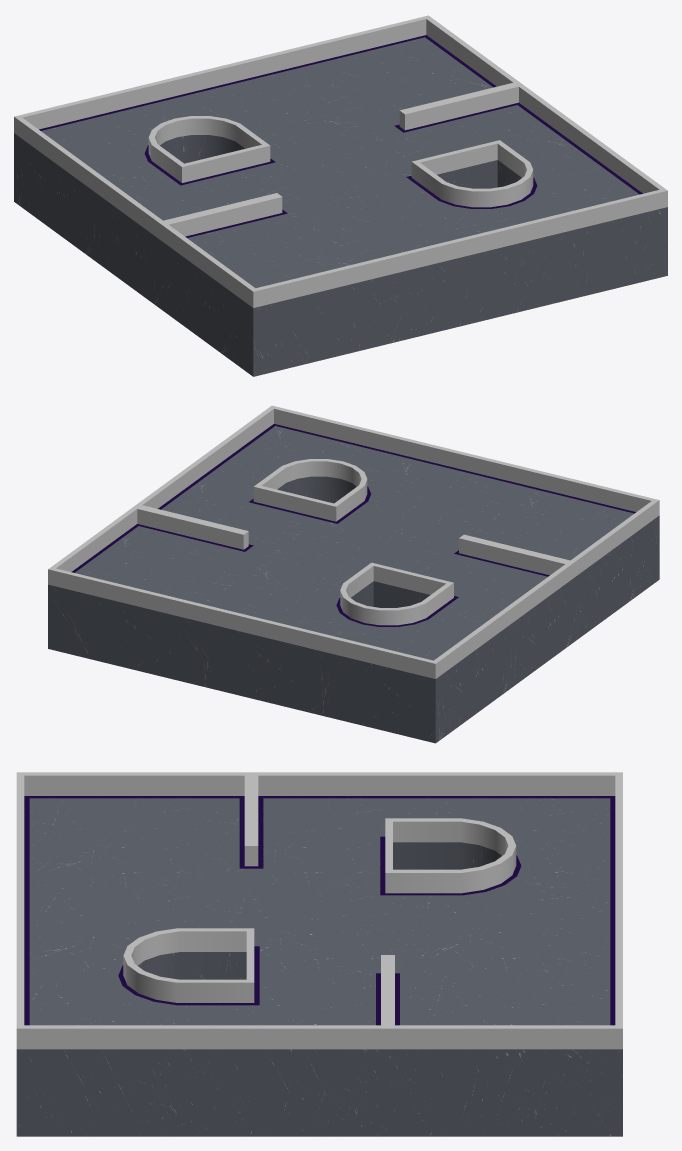
File: Battle_Stage 19.fbx
The picture shows the model from 3 angles, top to bottom: view 1: azimuth 30°, elevation 25°; view 2: azimuth 150°, elevation 25°; view 3: azimuth 270°, elevation 25°; orthographic projection. The views are drawn at different scales.
Parts seen in each view (by area): view 1: Cube.004, Cube.005, Cube.006; view 2: Cube.004, Cube.005, Cube.006; view 3: Cube.004, Cube.005, Cube.006.
Part boxes in pixels (x1=…): Cube.004: x1=14, y1=37, x2=667, y2=376; Cube.005: x1=14, y1=15, x2=667, y2=307; Cube.006: x1=39, y1=35, x2=642, y2=237; Cube.004: x1=48, y1=426, x2=659, y2=743; Cube.005: x1=48, y1=405, x2=659, y2=678; Cube.006: x1=71, y1=424, x2=635, y2=626; Cube.004: x1=16, y1=798, x2=622, y2=1136; Cube.005: x1=16, y1=772, x2=622, y2=1049; Cube.006: x1=24, y1=796, x2=615, y2=1025.
Bounding box in the file's own units: 6705 × 1236 × 6796.
